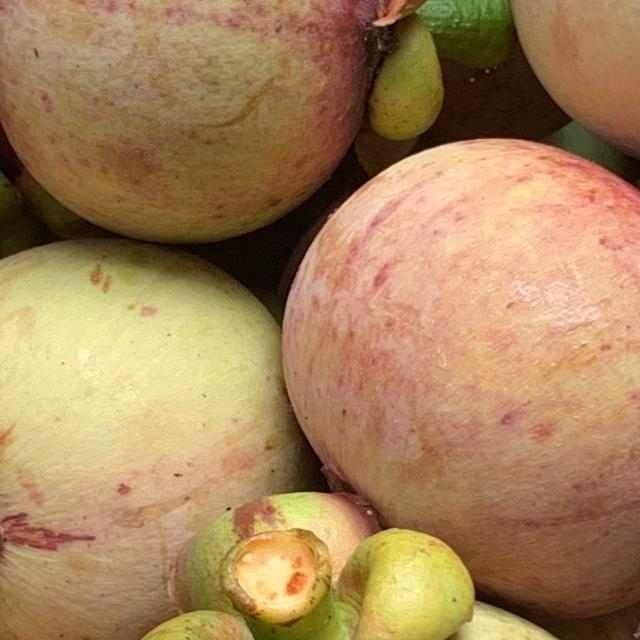mangosteen: (0, 0, 503, 257), (92, 485, 640, 640)
